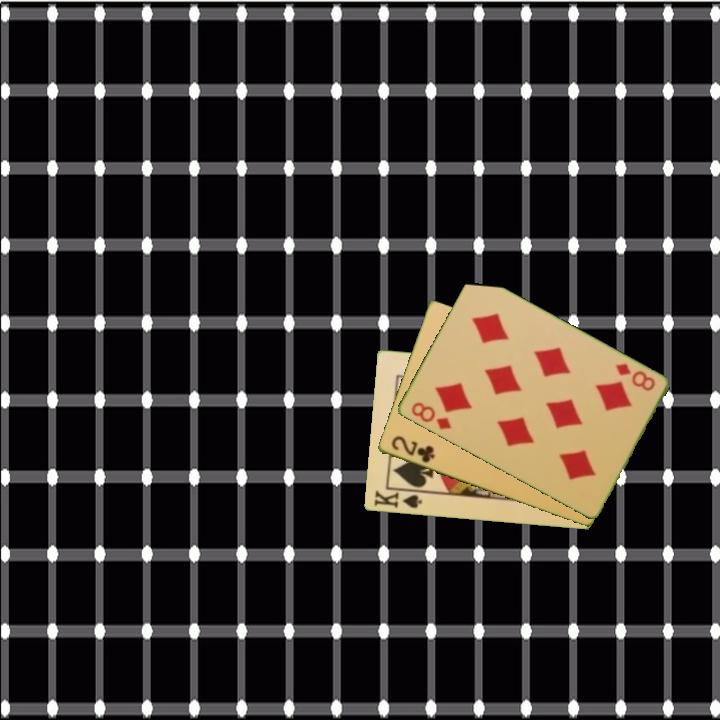2c: (387, 432, 437, 466)
8d: (407, 399, 454, 433), (612, 360, 658, 394)
Ks: (371, 486, 427, 512)
